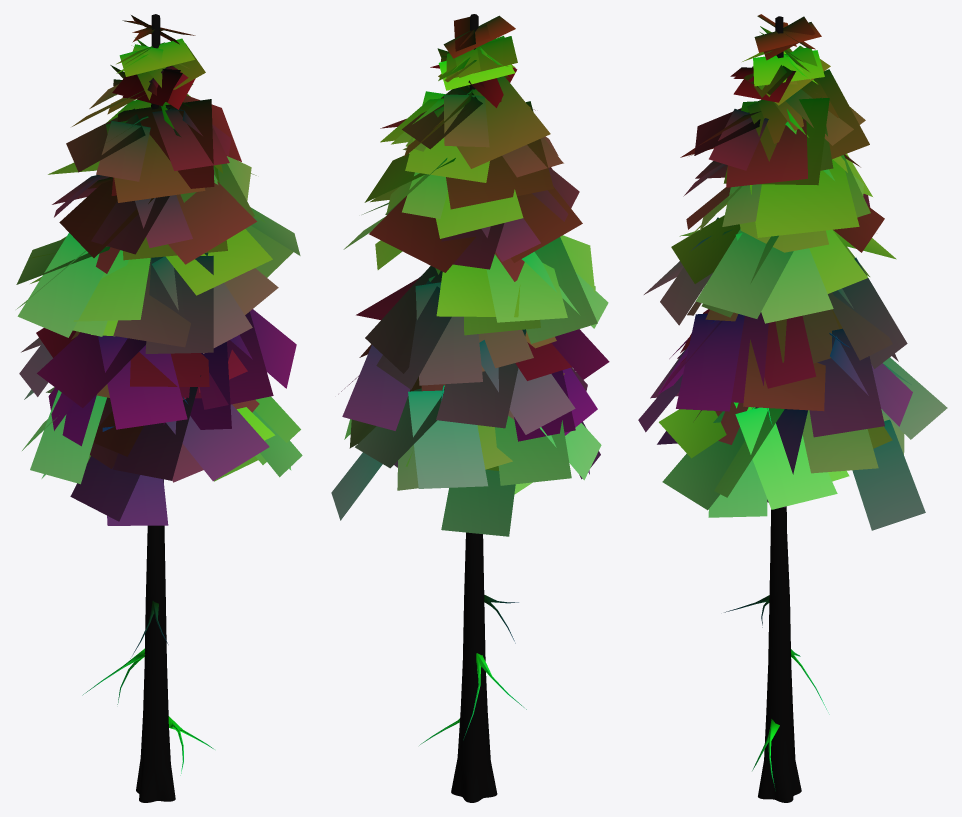
The model's file is M_Pine_4_8.fbx.
3 renders of one model, left to right at view 1: azimuth 30°, elevation 25°; view 2: azimuth 150°, elevation 25°; view 3: azimuth 270°, elevation 25°, orthographic.
Visible parts, largest first — view 1: Tree_8; view 2: Tree_8; view 3: Tree_8.
Boxes of the visible parts, x1,y1,x2,y2 form: Tree_8: (16,14,302,802); Tree_8: (331,14,609,802); Tree_8: (638,14,947,802).
Size of the model in its own units: 1007 by 2887 by 1042.
